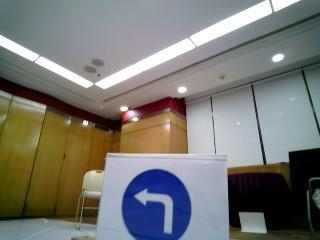left: (108, 156, 210, 240)
